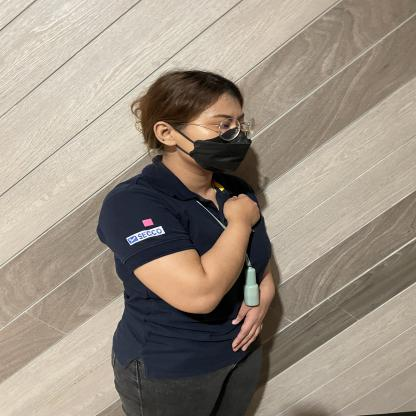Sadness: (126, 178, 300, 316)
